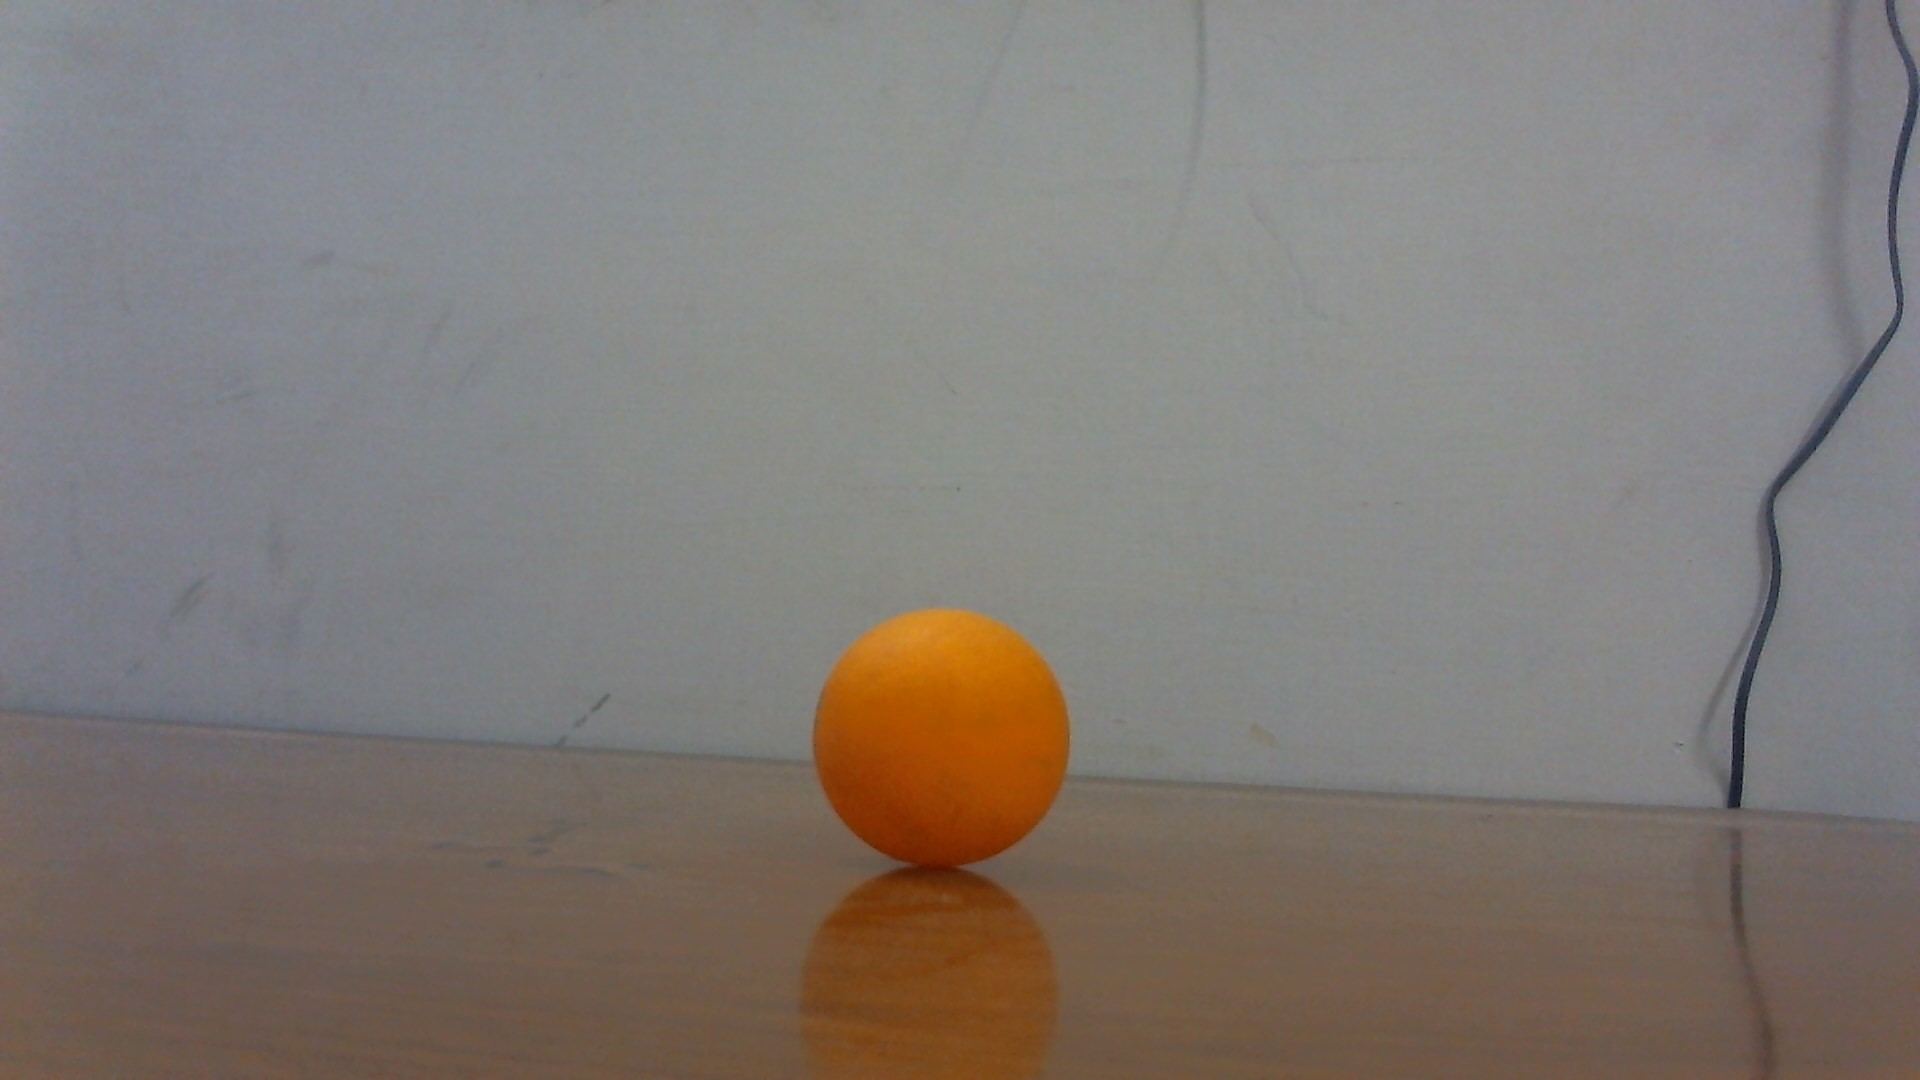ball: (812, 604, 1072, 869)
